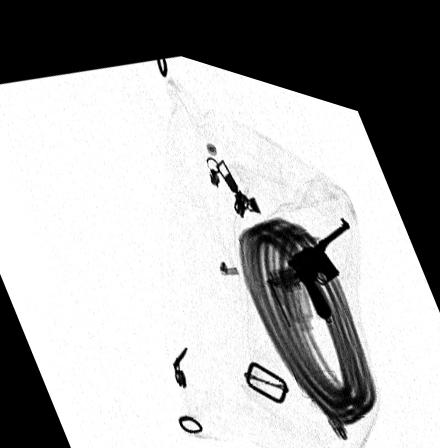Gun: (285, 193, 351, 300)
